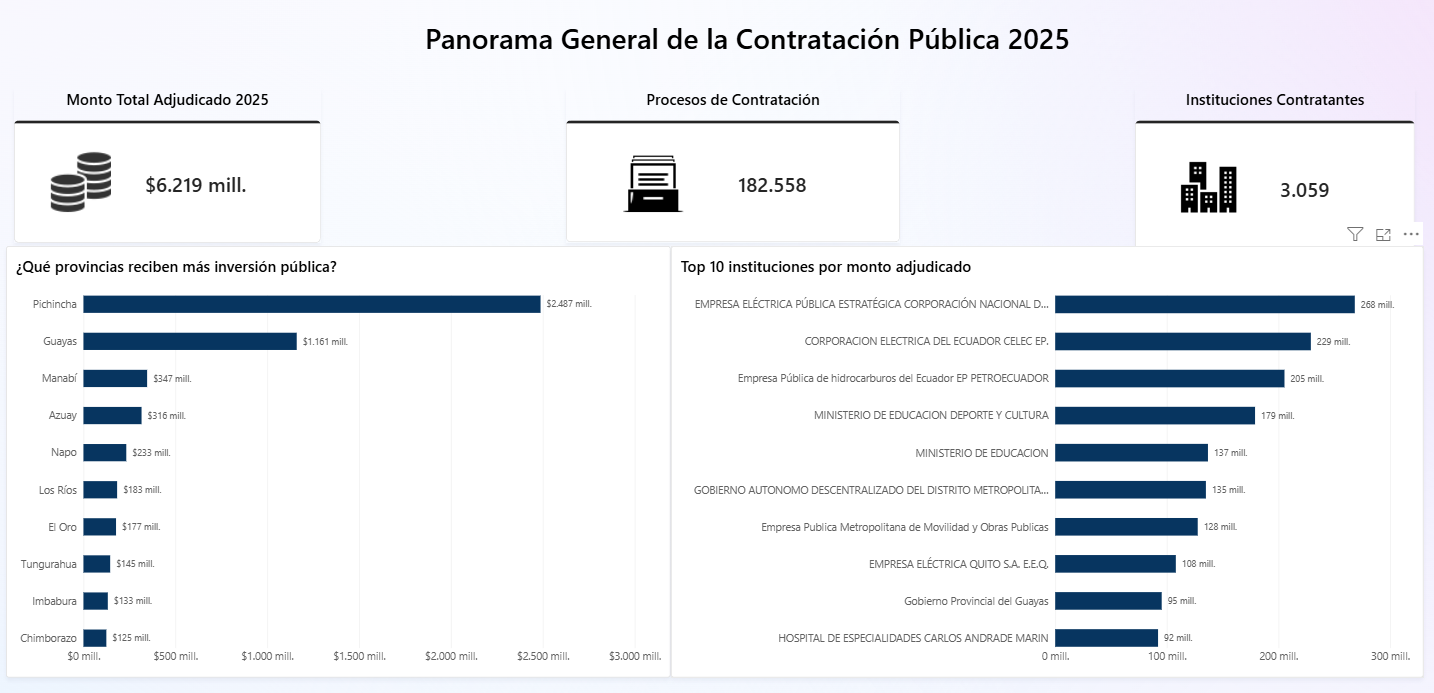

What the dashboard file says about the page in this screenshot:
{"tool":"powerbi","page":{"name":"Panorama General - Provincias","canvas":[1920,1080],"ordinal":0},"visuals":[{"type":"cardVisual","title":"Monto Total Adjudicado 2025","fields":{"Data":["Sum(contratacion_2025_completo.amount)"]},"box":[29.3,119.7,408.3,206.2],"z":0},{"type":"cardVisual","title":"Procesos de Contratación","fields":{"Data":["CountNonNull(contratacion_2025_completo.ocid)"]},"box":[762.9,120,444.3,205.7],"z":1000},{"type":"cardVisual","title":"Instituciones Contratantes","fields":{"Data":["Count(contratacion_2025_completo.procuringEntity_name)"]},"box":[1520,120,372.5,220.4],"z":2000},{"type":"barChart","title":"¿Qué provincias reciben más inversión pública?","fields":{"Category":["contratacion_2025_completo.provincia"],"Y":["Sum(contratacion_2025_completo.amount)"]},"box":[18.6,330,884.3,574.3],"z":3000},{"type":"barChart","title":"Top 10 instituciones por monto adjudicado","fields":{"Category":["resumen_por_institucion.procuringEntity_name"],"Y":["Sum(resumen_por_institucion.monto_total)"]},"box":[902.9,330,1001.4,574.3],"z":4000},{"type":"textbox","box":[460.2,18.6,967.1,70],"z":5000}]}

Visuals, with their boxes on the page's 1920x1080 design canvas (x1, y1, x2, y2). These are canvas units, not pixel positions in the 1434x693 screenshot, which may show the page scaled, cropped or inside an application window:
"Monto Total Adjudicado 2025" cardVisual: detection(29, 120, 438, 326)
"Procesos de Contratación" cardVisual: detection(763, 120, 1207, 326)
"Instituciones Contratantes" cardVisual: detection(1520, 120, 1892, 340)
"¿Qué provincias reciben más inversión pública?" barChart: detection(19, 330, 903, 904)
"Top 10 instituciones por monto adjudicado" barChart: detection(903, 330, 1904, 904)
textbox: detection(460, 19, 1427, 89)
